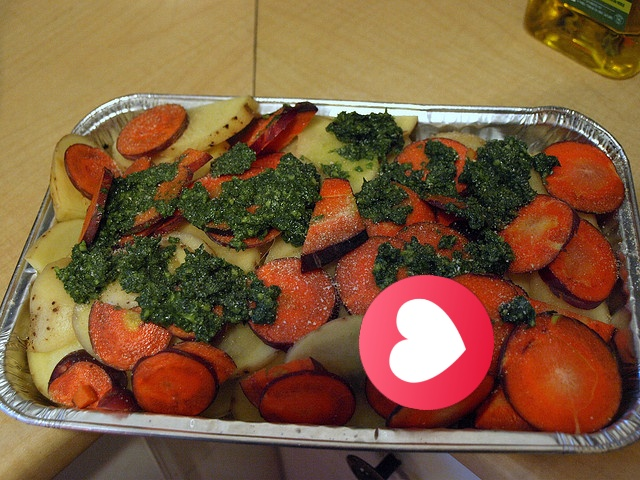love: (359, 275, 494, 410)
